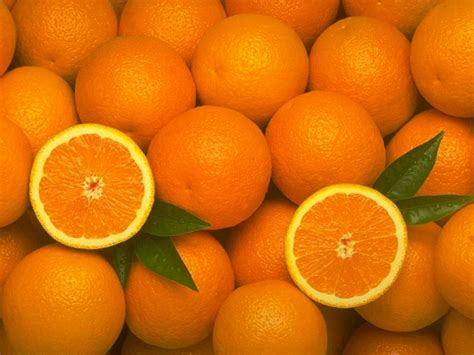orange: (142, 100, 273, 235), (268, 87, 392, 207), (187, 9, 310, 120), (71, 32, 197, 140)
